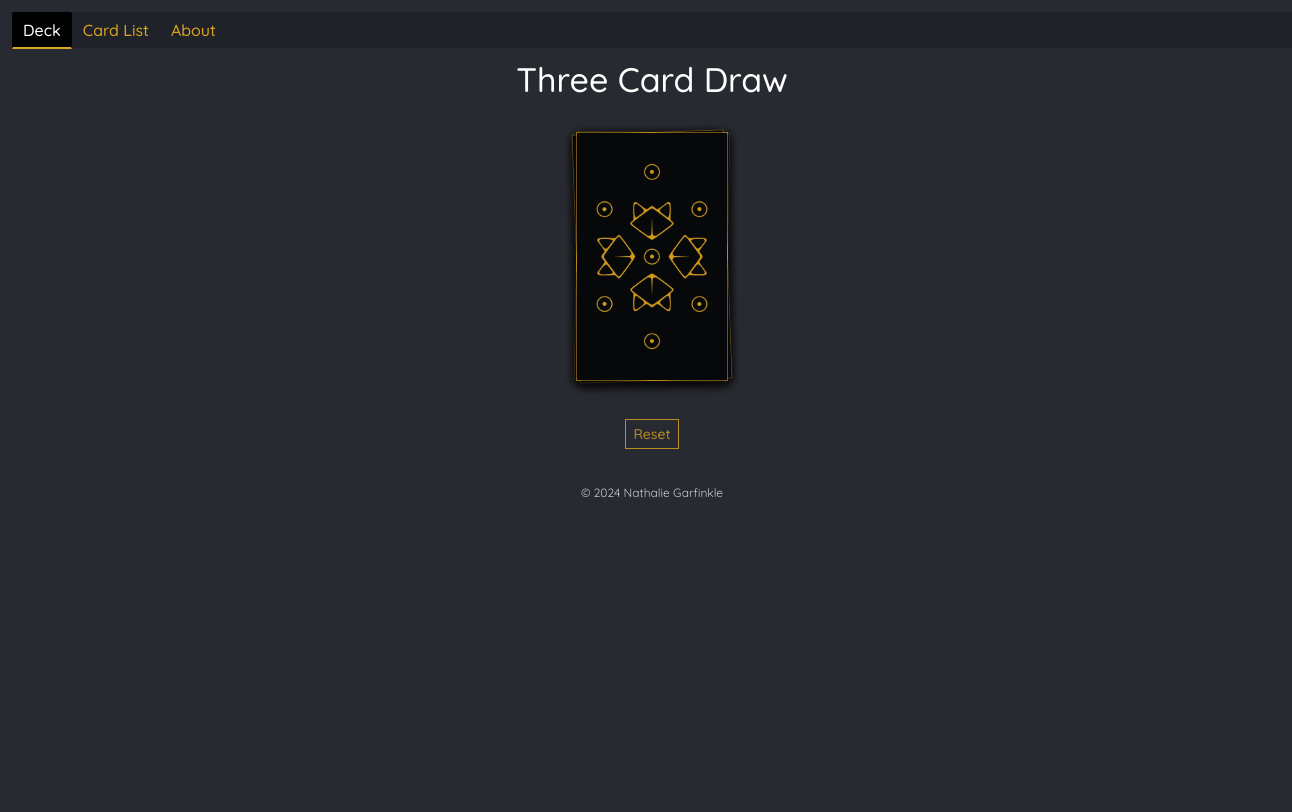
Test: deck disabled after drawing 3 cards
# draw 3 cards
Click the button named "Click to draw card from Tarot Deck" at (652, 260), box [560,131,744,389]
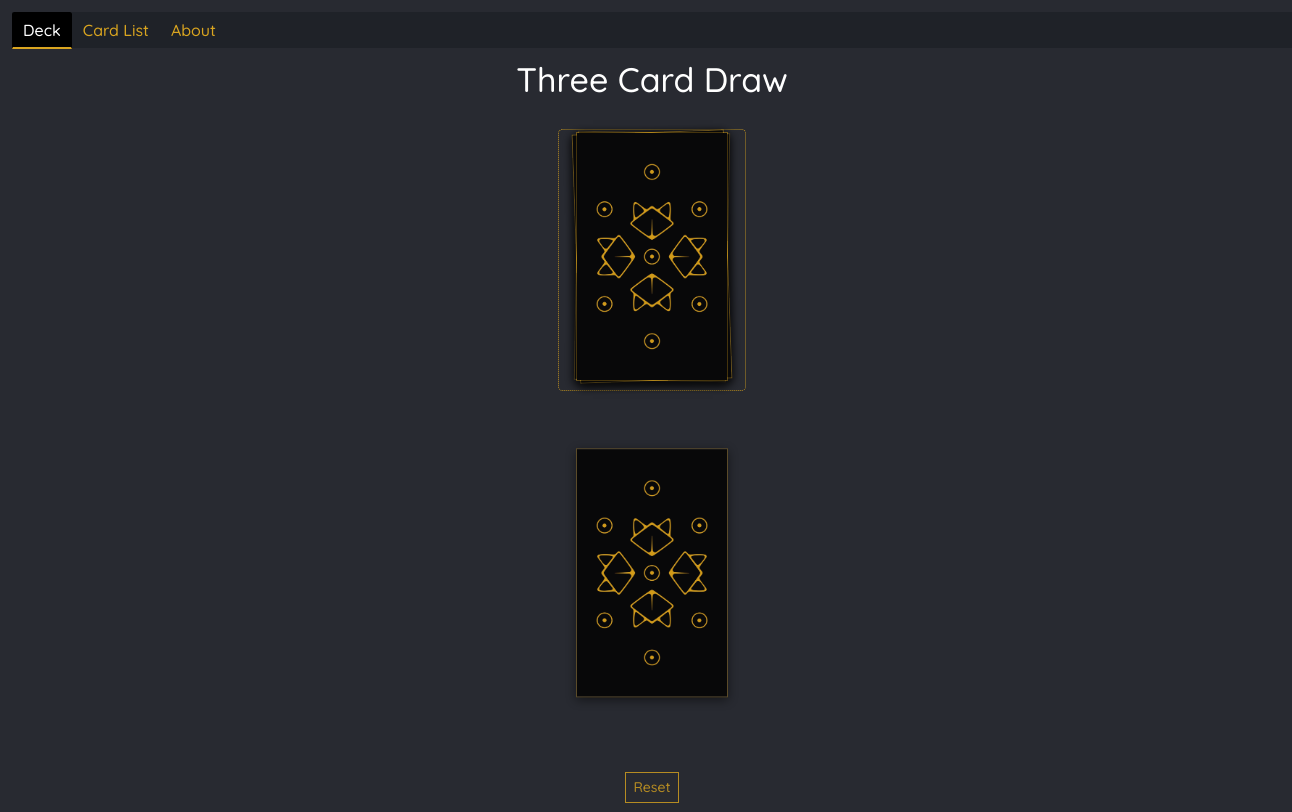
Click the button named "Click to draw card from Tarot Deck" at (652, 260), box [560,131,744,389]
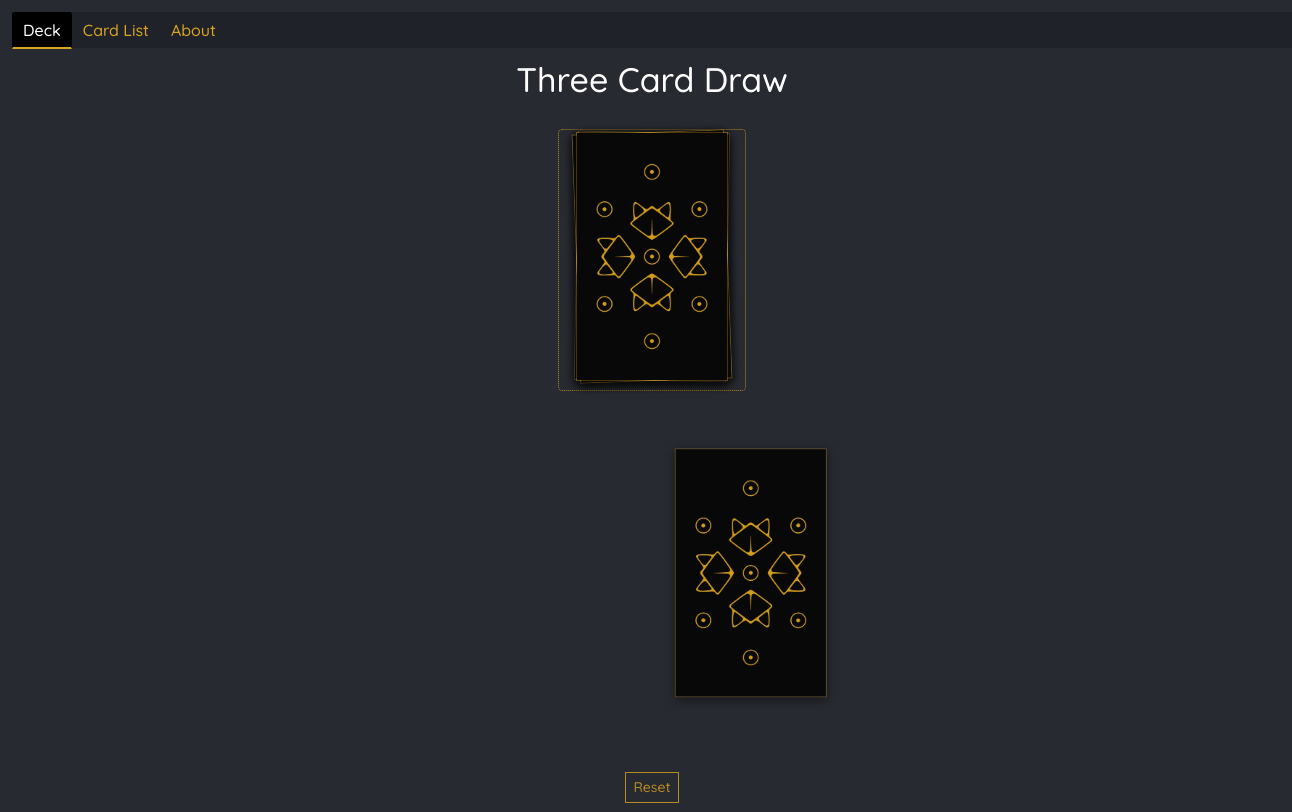
Click the button named "Click to draw card from Tarot Deck" at (652, 260), box [560,131,744,389]
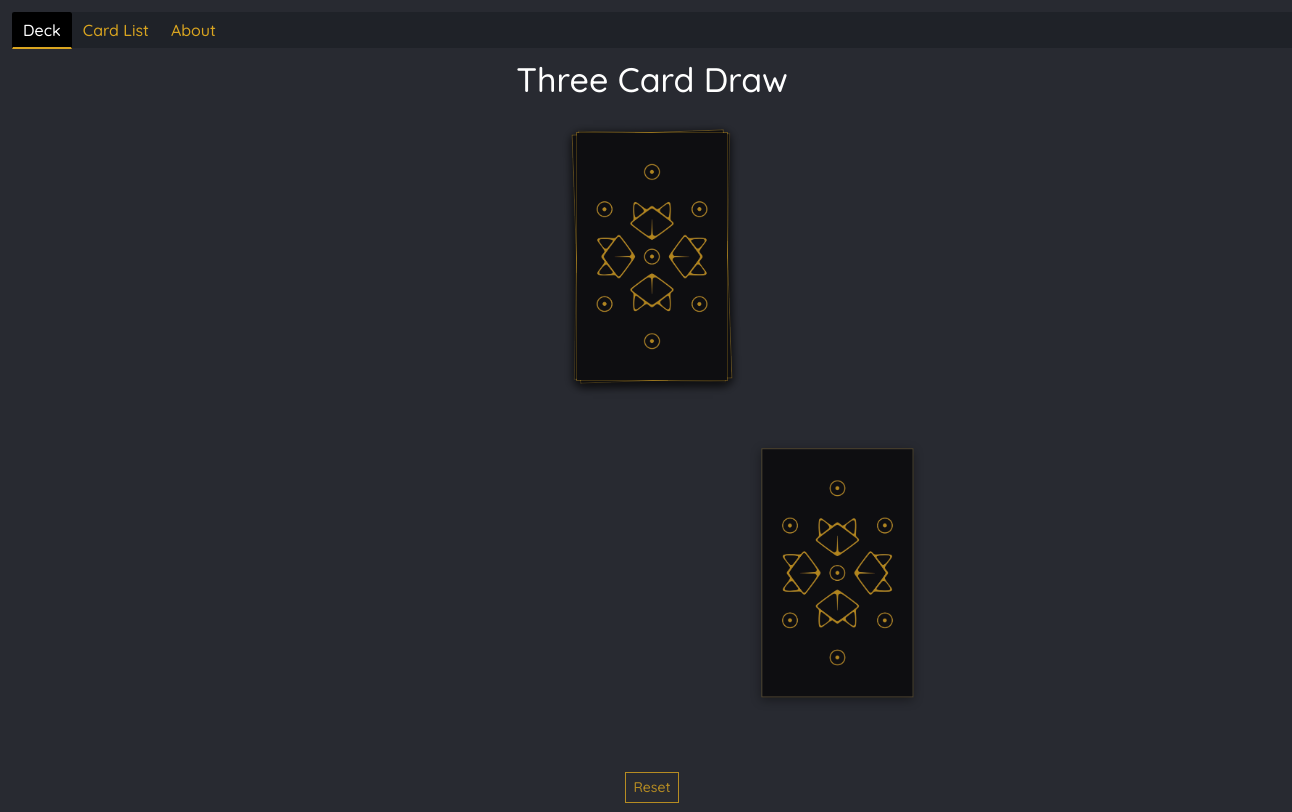
Now the button named "Click to draw card from Tarot Deck" is disabled, box [560,131,744,389]
